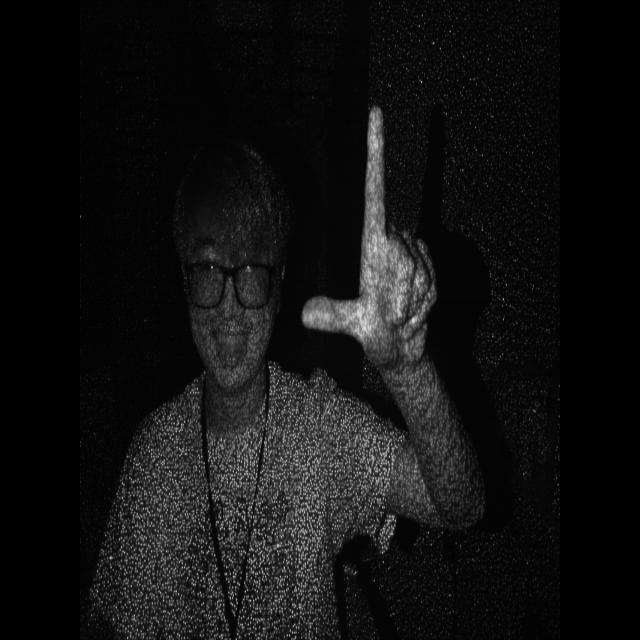L: (292, 80, 468, 430)
